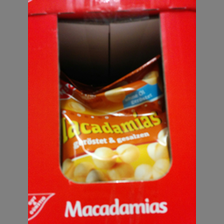nuts: (60, 57, 172, 183)
